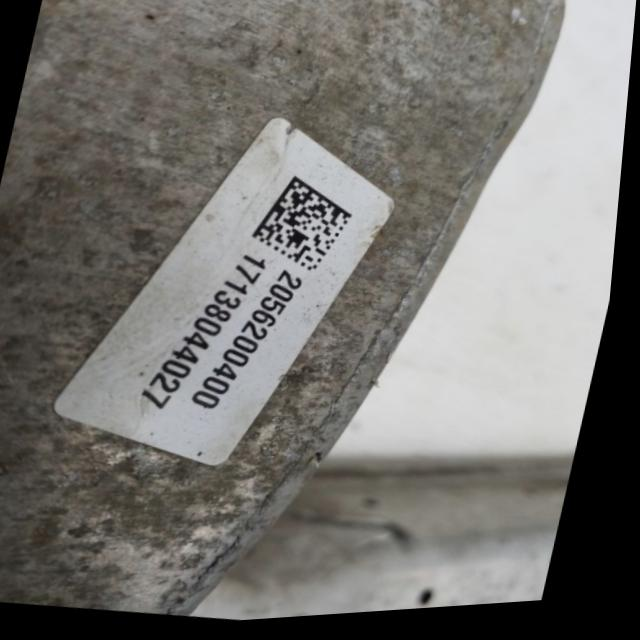datamatrix: (249, 174, 365, 283)
